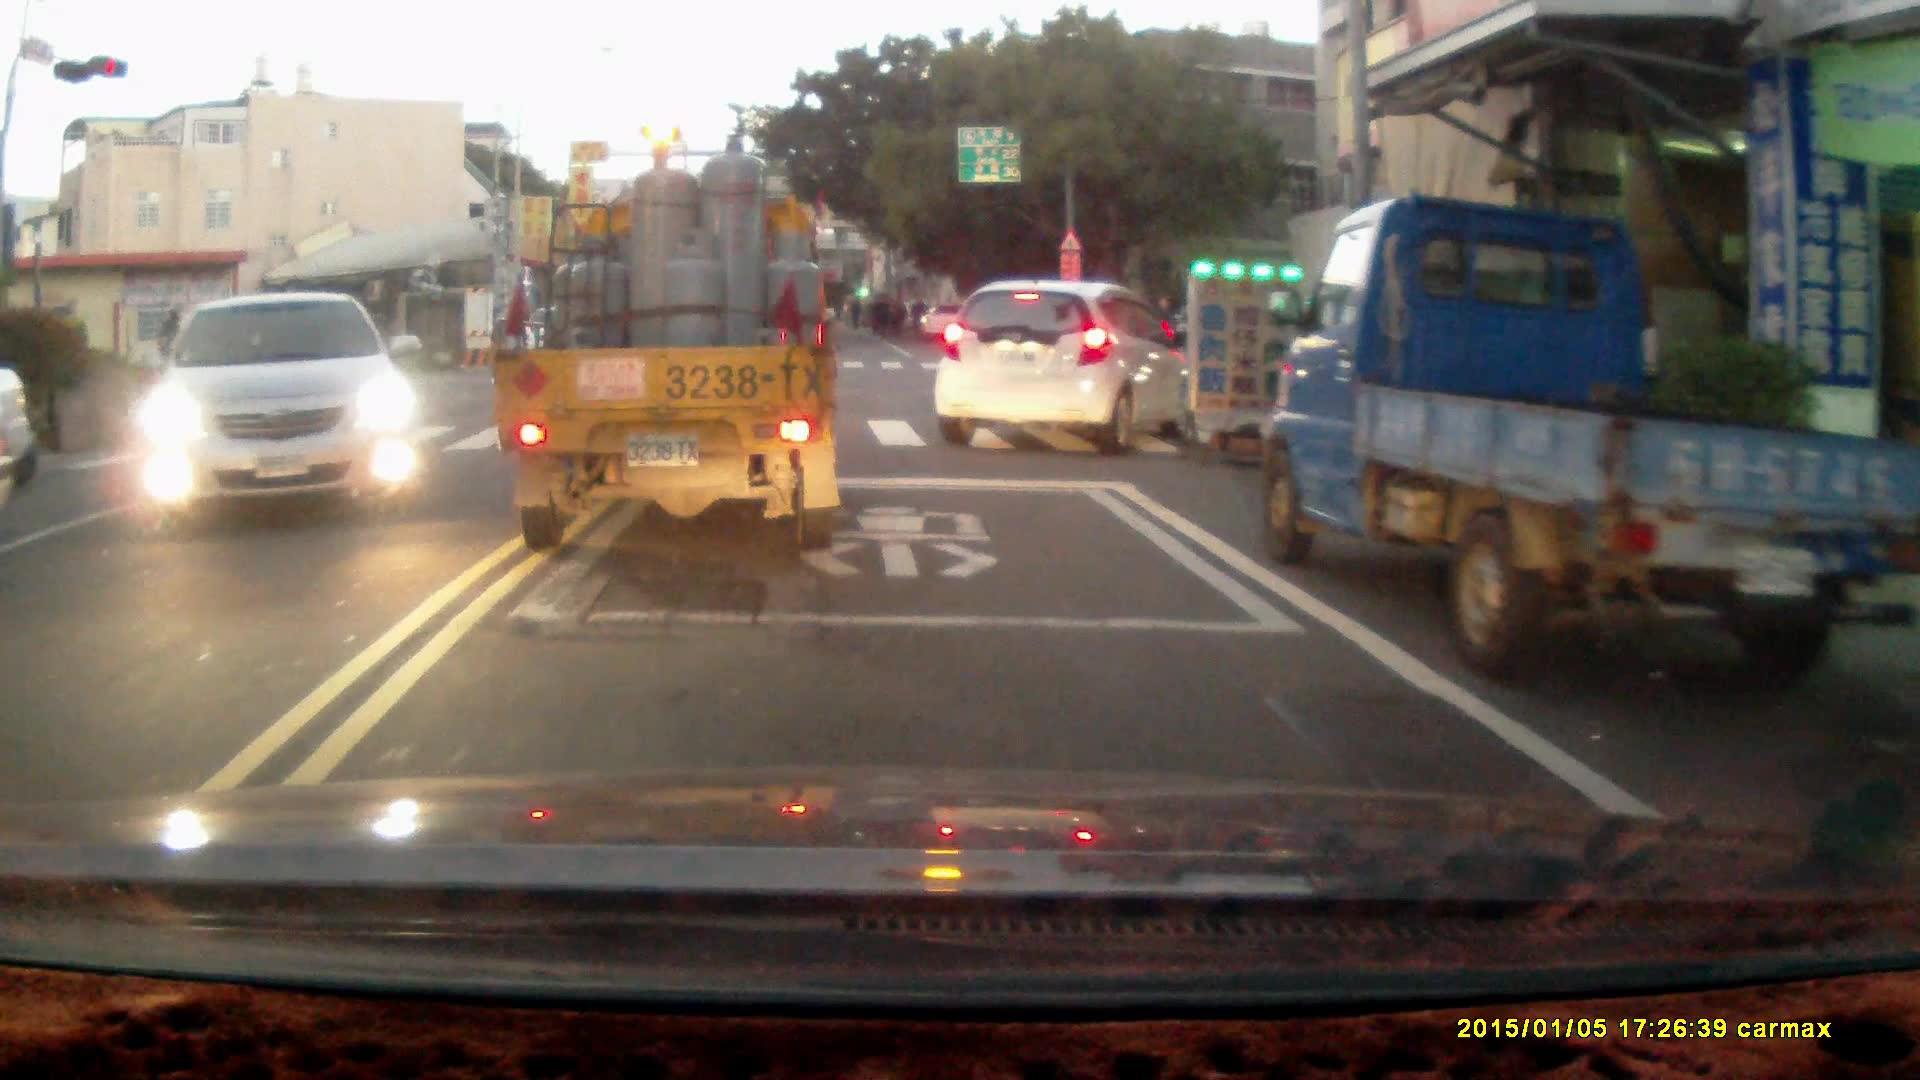vehicle: (1263, 187, 1905, 676), (504, 136, 848, 556), (138, 291, 429, 531), (931, 278, 1196, 462), (1, 359, 46, 516)
